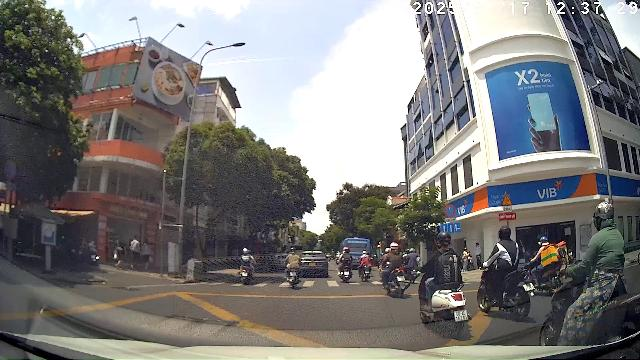131a-cam-do-xe: (444, 205, 456, 217)
